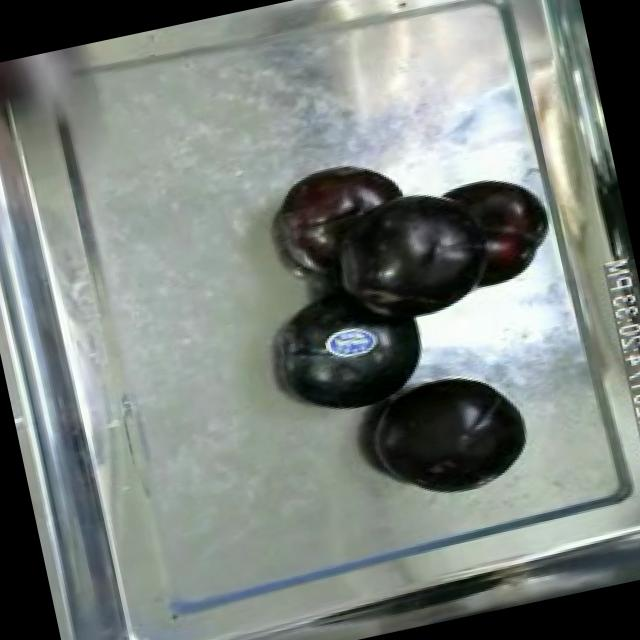Fruit: (258, 270, 446, 436), (356, 350, 544, 513), (262, 146, 414, 257), (586, 170, 636, 274)
